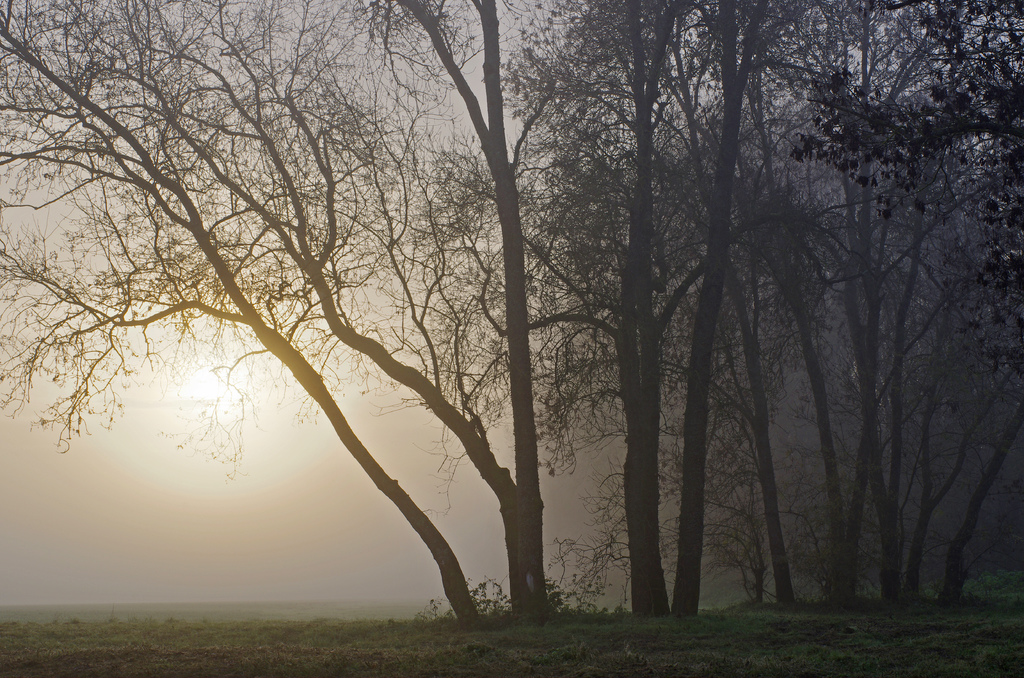Tree: (0, 0, 1023, 628)
